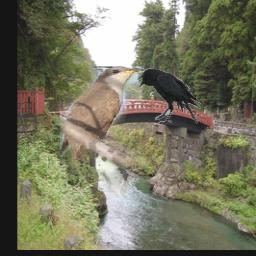Crow: (138, 68, 202, 124)
Cuckoo: (60, 66, 144, 198)
